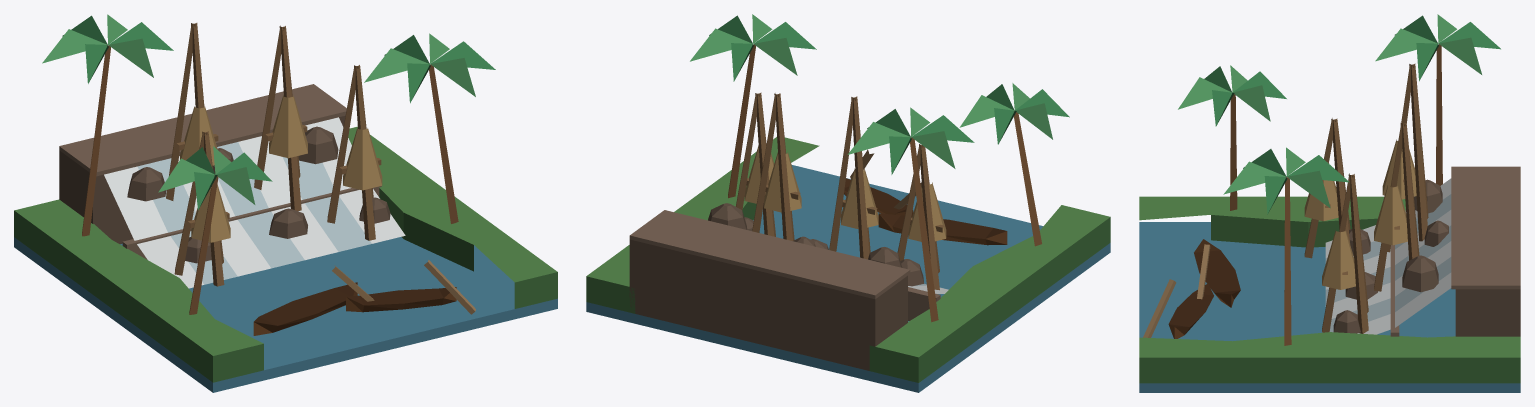
Rendered from piroguesBoyoma.glb.
3 views of the same model, side by side, from view 1: azimuth 30°, elevation 25°; view 2: azimuth 150°, elevation 25°; view 3: azimuth 270°, elevation 25° (orthographic). The views are drawn at different scales.
Parts seen in each view (by area): view 1: piroguesBoyoma; view 2: piroguesBoyoma; view 3: piroguesBoyoma.
Part boxes in pixels (<box>): piroguesBoyoma: <box>14,14,557,392</box>; piroguesBoyoma: <box>586,14,1110,392</box>; piroguesBoyoma: <box>1139,14,1520,392</box>.
Size of the model in its own units: 1.81 by 1.15 by 1.76.
